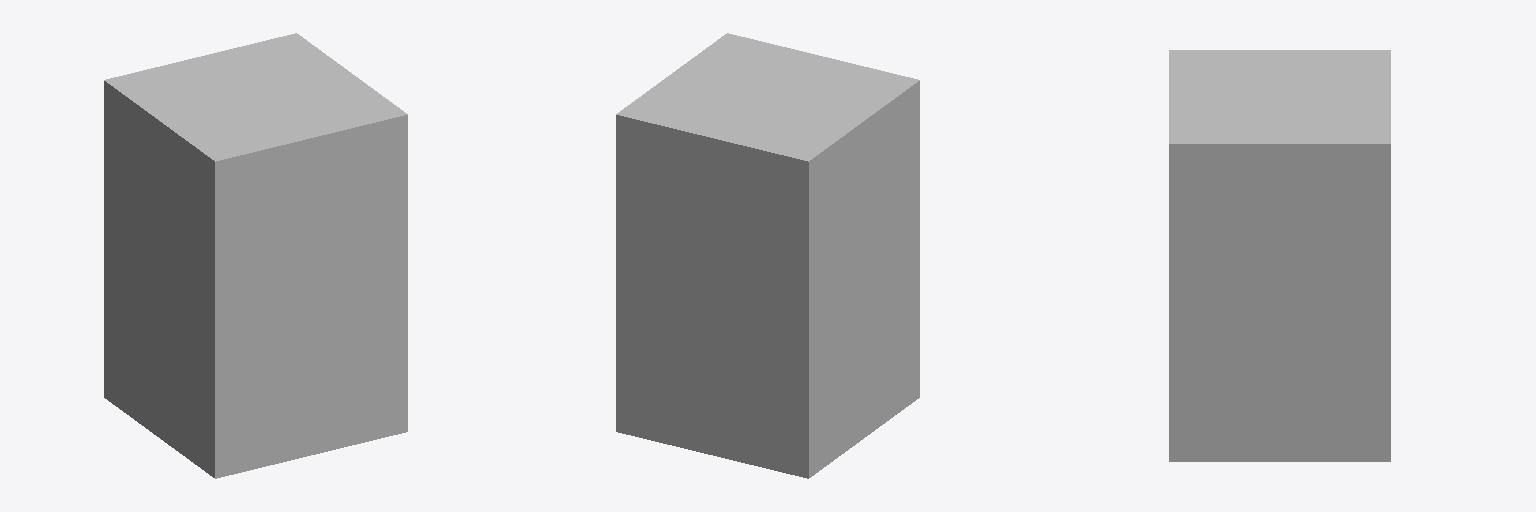
File: bucket.obj
3 renders of one model, left to right at view 1: azimuth 30°, elevation 25°; view 2: azimuth 150°, elevation 25°; view 3: azimuth 270°, elevation 25°, orthographic.
Visible parts, largest first — view 1: object 1; view 2: object 1; view 3: object 1.
Boxes of the visible parts, x1=… form: object 1: x1=104, y1=33, x2=407, y2=478; object 1: x1=616, y1=33, x2=919, y2=478; object 1: x1=1169, y1=50, x2=1390, y2=461.
Size of the model in its own units: 0.7 by 1.1 by 0.7.